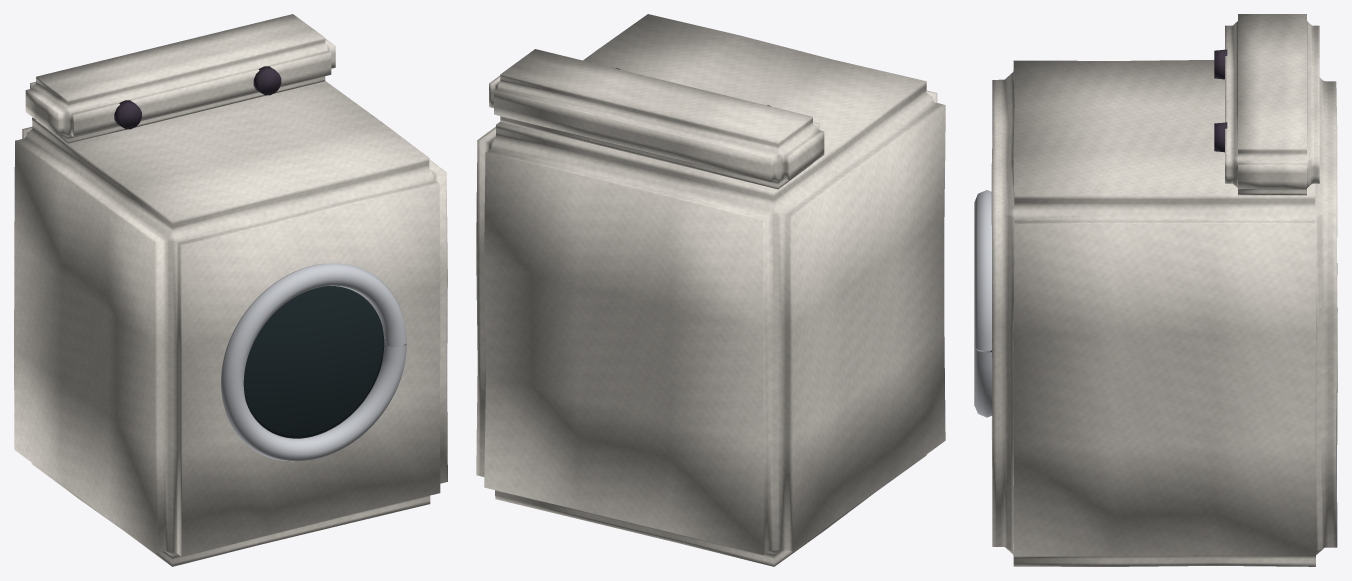
Rendered from Machine.glb.
3 views of the same model, side by side, from view 1: azimuth 30°, elevation 25°; view 2: azimuth 150°, elevation 25°; view 3: azimuth 270°, elevation 25° (orthographic). The views are drawn at different scales.
Visible parts, largest first — view 1: Corps, Bandeau, Hublot_Vitre, Hublot_Cercle, Boutons; view 2: Corps, Bandeau; view 3: Corps, Bandeau, Hublot_Cercle, Boutons.
Part boxes in pixels (box(x1,y1,x2,y2)): Corps: box(14, 81, 447, 566); Bandeau: box(25, 14, 335, 143); Hublot_Vitre: box(243, 286, 384, 438); Hublot_Cercle: box(221, 263, 406, 461); Boutons: box(114, 66, 281, 129); Corps: box(476, 14, 945, 566); Bandeau: box(489, 49, 824, 189); Corps: box(991, 60, 1337, 566); Bandeau: box(1225, 14, 1319, 195); Hublot_Cercle: box(974, 190, 992, 417); Boutons: box(1214, 49, 1227, 152).
Bounding box in the file's own units: 0.8427 × 1.07 × 0.8437.
5 materials, 1 textured.
